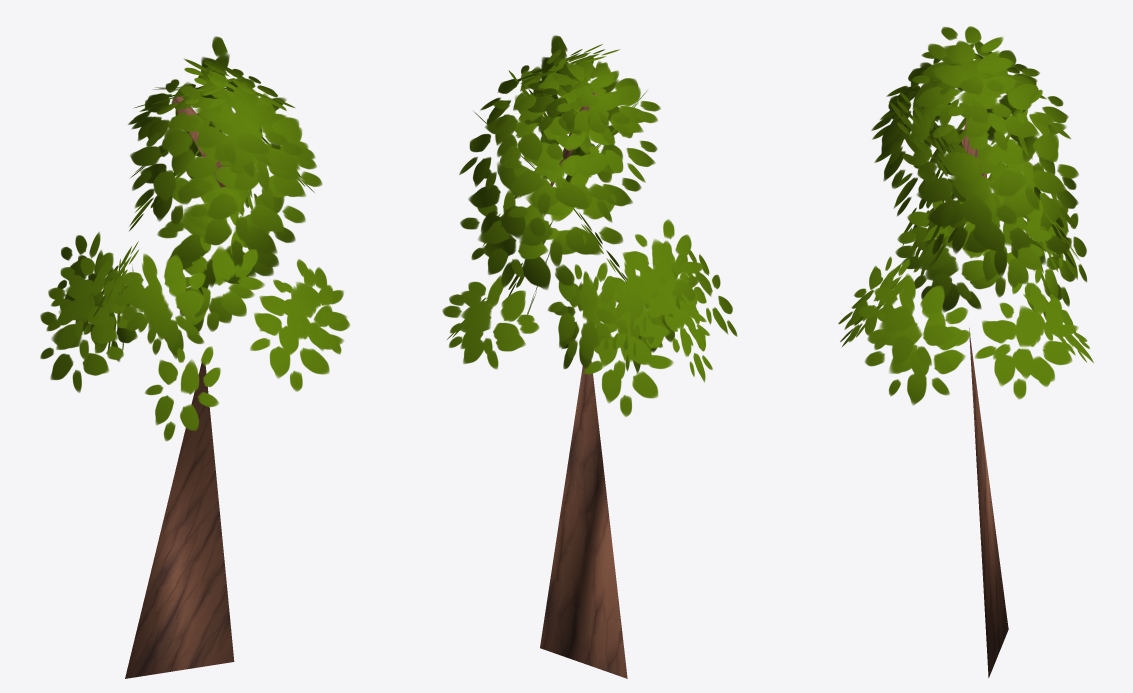
The model's file is broad2_far.glb.
3 renders of one model, left to right at view 1: azimuth 30°, elevation 25°; view 2: azimuth 150°, elevation 25°; view 3: azimuth 270°, elevation 25°, orthographic. The views are drawn at different scales.
Parts seen in each view (by area): view 1: CommonTree_2; view 2: CommonTree_2; view 3: CommonTree_2.
Part boxes in pixels (<box>): CommonTree_2: <box>40,36,349,678</box>; CommonTree_2: <box>442,35,737,678</box>; CommonTree_2: <box>838,26,1093,677</box>.
Bounding box in the file's own units: 3.68 × 7.47 × 3.62.
Materials: 2 (2 with a texture image).
